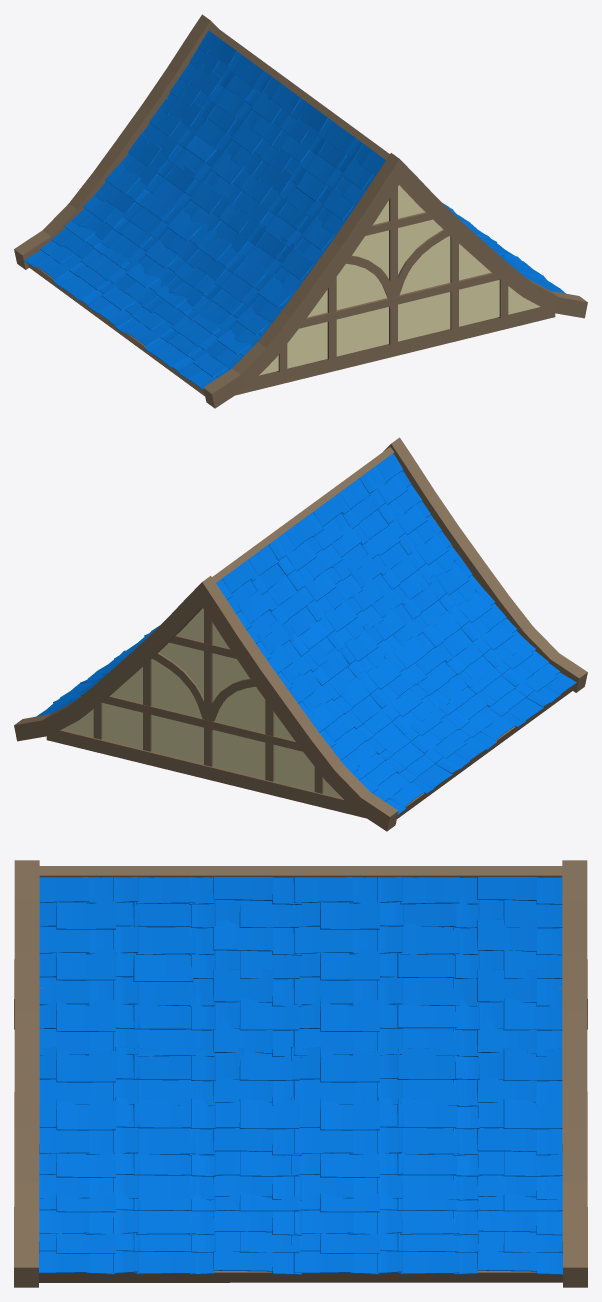
Rendered from mod_tejadoBase.fbx.
The picture shows the model from 3 angles, top to bottom: view 1: azimuth 30°, elevation 25°; view 2: azimuth 150°, elevation 25°; view 3: azimuth 270°, elevation 25°; orthographic projection. The views are drawn at different scales.
Visible parts, largest first — view 1: Tejado_1; view 2: Tejado_1; view 3: Tejado_1.
Boxes of the visible parts, box(x1,y1,x2,y2) form: Tejado_1: box(14, 14, 587, 408); Tejado_1: box(14, 437, 587, 831); Tejado_1: box(14, 860, 587, 1287).
Size of the model in its own units: 412 by 451 by 235.
